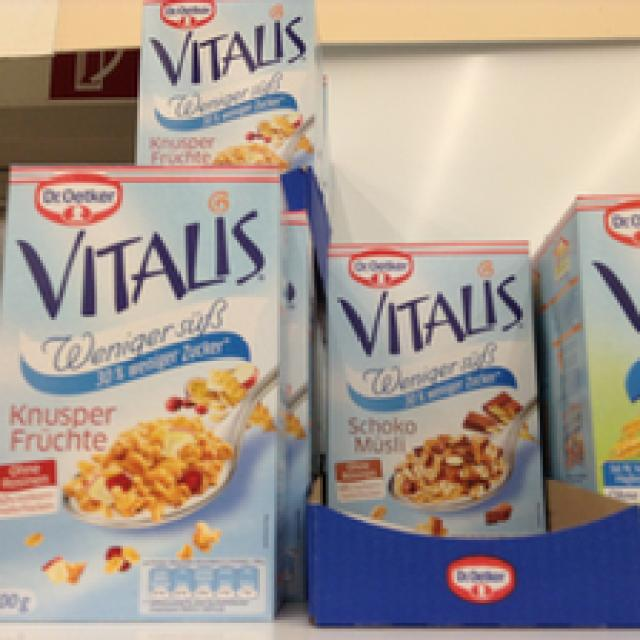groceries: (0, 163, 280, 620), (320, 237, 551, 537), (134, 0, 314, 169)
